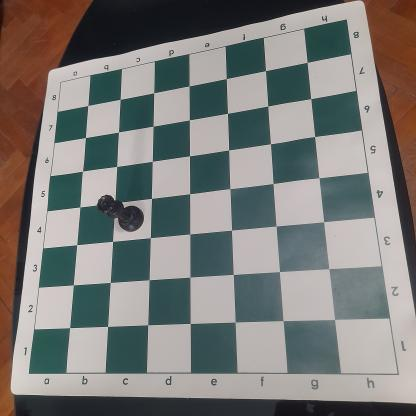black-queen: (96, 193, 145, 233)
